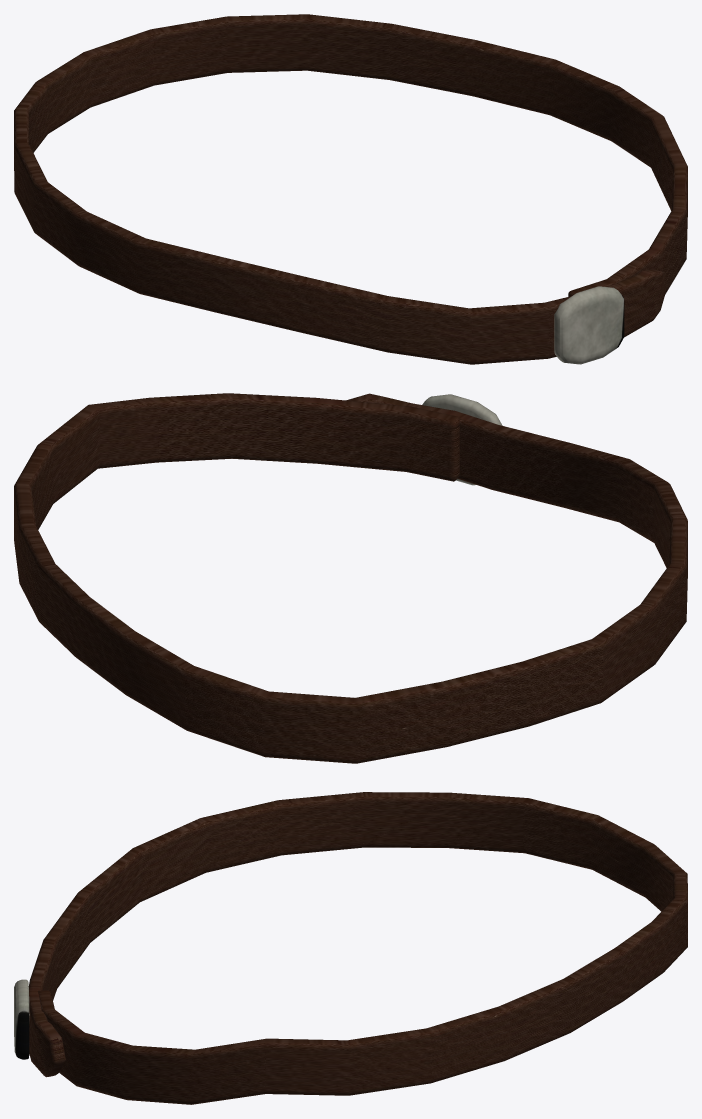
File: hard_leather_belt.glb
The picture shows the model from 3 angles, top to bottom: view 1: azimuth 30°, elevation 25°; view 2: azimuth 150°, elevation 25°; view 3: azimuth 270°, elevation 25°; orthographic projection. The views are drawn at different scales.
Parts seen in each view (by area): view 1: hard_leather_belt; view 2: hard_leather_belt; view 3: hard_leather_belt.
Part boxes in pixels (x1,y1,x2,y2): hard_leather_belt: (14,14,687,364); hard_leather_belt: (14,393,687,763); hard_leather_belt: (14,792,687,1104).
Size of the model in its own units: 0.2117 by 0.0444 by 0.234.
Materials: 1 (1 with a texture image).
